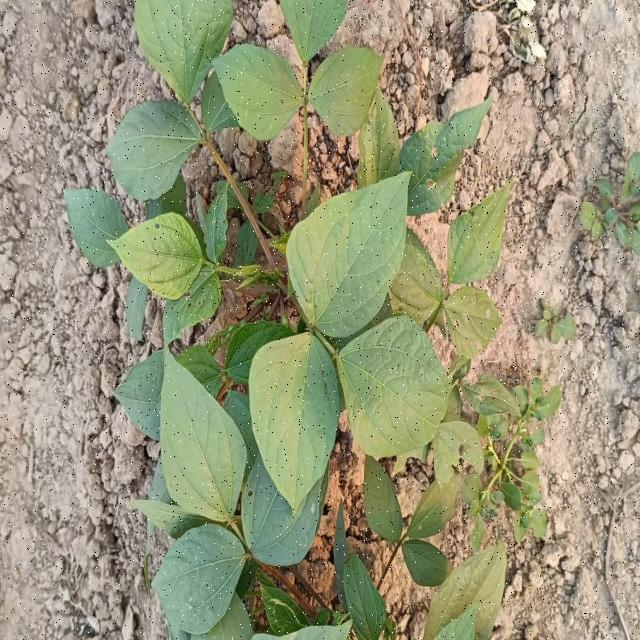plant: (65, 0, 511, 640)
